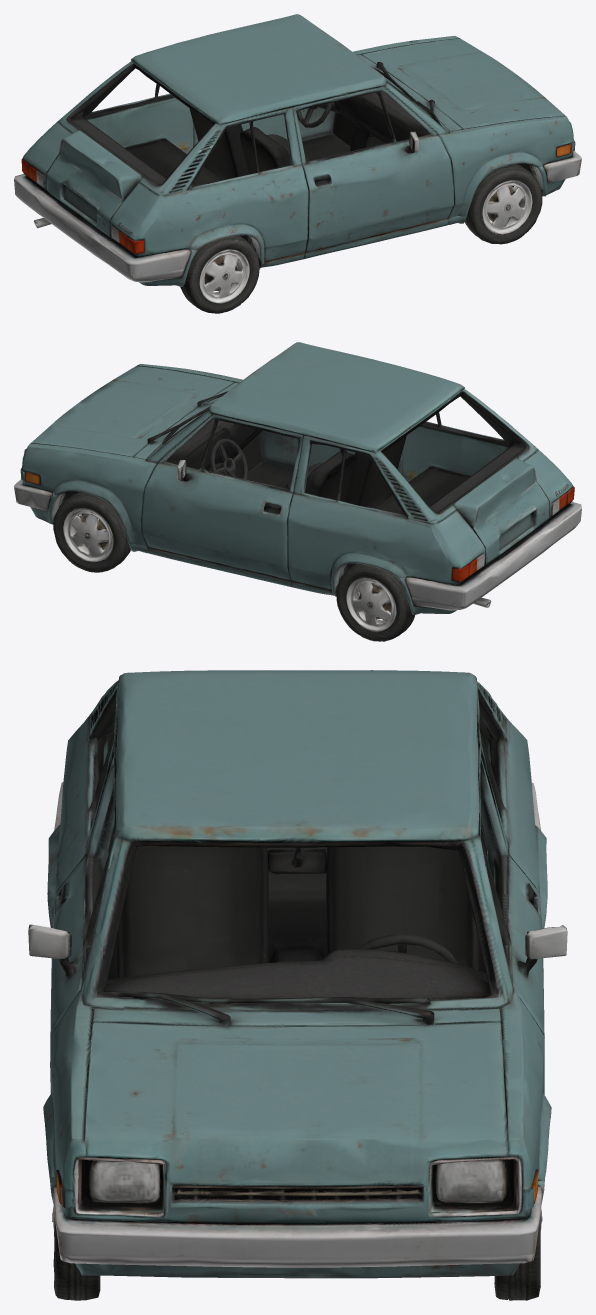
The model's file is car_hatch.glb.
3 views of the same model, one above another, from view 1: azimuth 30°, elevation 25°; view 2: azimuth 150°, elevation 25°; view 3: azimuth 270°, elevation 25° (orthographic). The views are drawn at different scales.
Parts seen in each view (by area): view 1: tripo_node_42364cff-95c3-4725-80c8-944f27e9ea1d; view 2: tripo_node_42364cff-95c3-4725-80c8-944f27e9ea1d; view 3: tripo_node_42364cff-95c3-4725-80c8-944f27e9ea1d.
Boxes of the visible parts, x1,y1,x2,y2 form: tripo_node_42364cff-95c3-4725-80c8-944f27e9ea1d: (14, 14, 581, 313); tripo_node_42364cff-95c3-4725-80c8-944f27e9ea1d: (14, 342, 581, 641); tripo_node_42364cff-95c3-4725-80c8-944f27e9ea1d: (28, 670, 567, 1300).
Bounding box in the file's own units: 0.9807 × 0.3729 × 0.499.
Materials: 1 (1 with a texture image).
